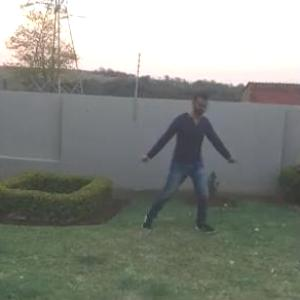land: (134, 78, 242, 237)
